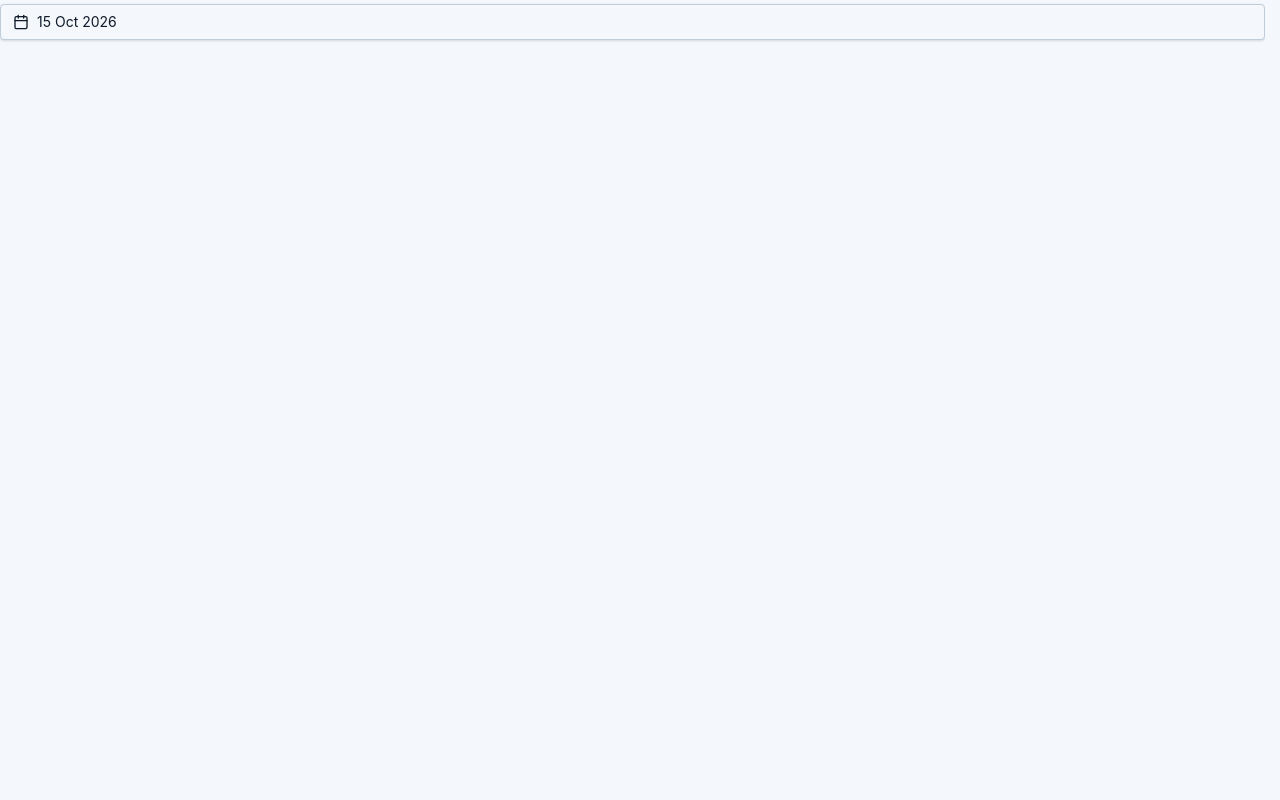
DatePicker › greys out days outside min and max so they cannot be chosen
This screenshot has width=1280, height=800.
Later steps or results of the test are not shown.
Click the button "15 Oct 2026": click(77, 22) [0,4,1265,40]
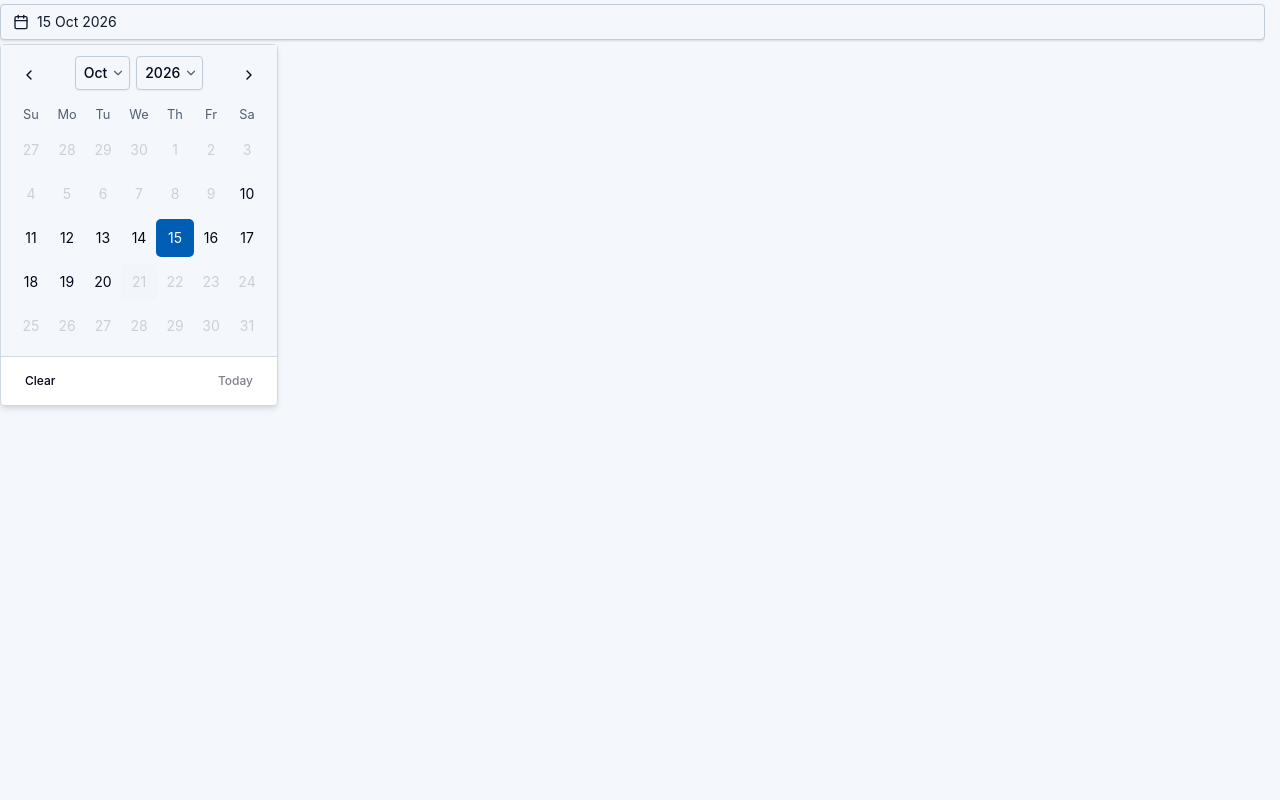
expect the button named "october 9th, 2026" is disabled: met, box [193,176,229,212]
expect the button named "october 21st, 2026" is disabled: met, box [121,264,157,300]
expect the button named "october 10th, 2026" is enabled: met, box [229,176,265,212]
